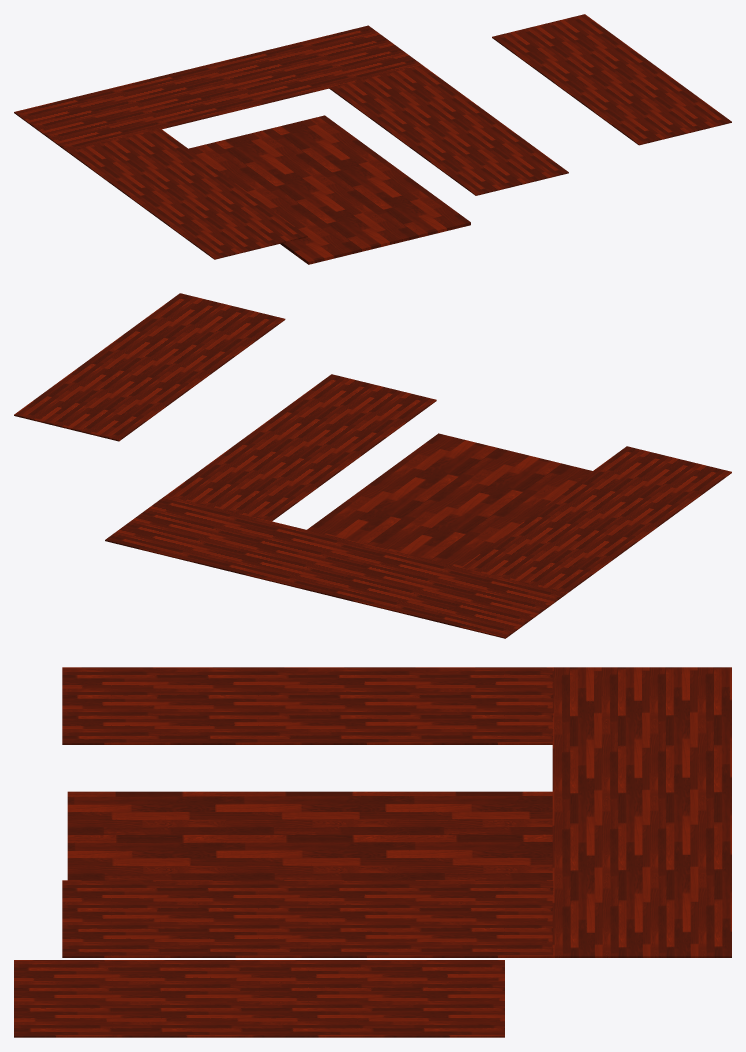
File: stage floor NEW2.fbx
3 views of the same model, one above another, from view 1: azimuth 30°, elevation 25°; view 2: azimuth 150°, elevation 25°; view 3: azimuth 270°, elevation 25° (orthographic). The views are drawn at different scales.
Parts seen in each view (by area): view 1: floor2, floor1, froor_long; view 2: floor2, floor1, froor_long; view 3: floor2, floor1, froor_long.
Part boxes in pixels (left/top/right/bottom): floor2: left=14, top=25, right=568, bottom=259; floor1: left=188, top=115, right=470, bottom=264; froor_long: left=492, top=14, right=731, bottom=145; floor2: left=105, top=374, right=731, bottom=638; floor1: left=307, top=433, right=592, bottom=567; froor_long: left=14, top=293, right=285, bottom=441; floor2: left=62, top=667, right=731, bottom=957; floor1: left=67, top=791, right=552, bottom=880; froor_long: left=14, top=960, right=504, bottom=1037.
Size of the model in its own units: 1211 by 128 by 896.
1 material, 1 textured.
